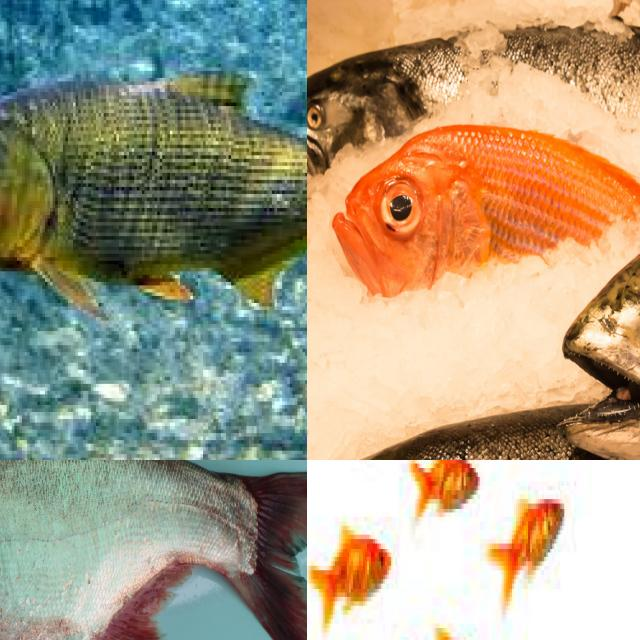fish: (0, 0, 307, 460), (307, 6, 640, 174), (0, 460, 307, 640), (508, 554, 640, 640)
